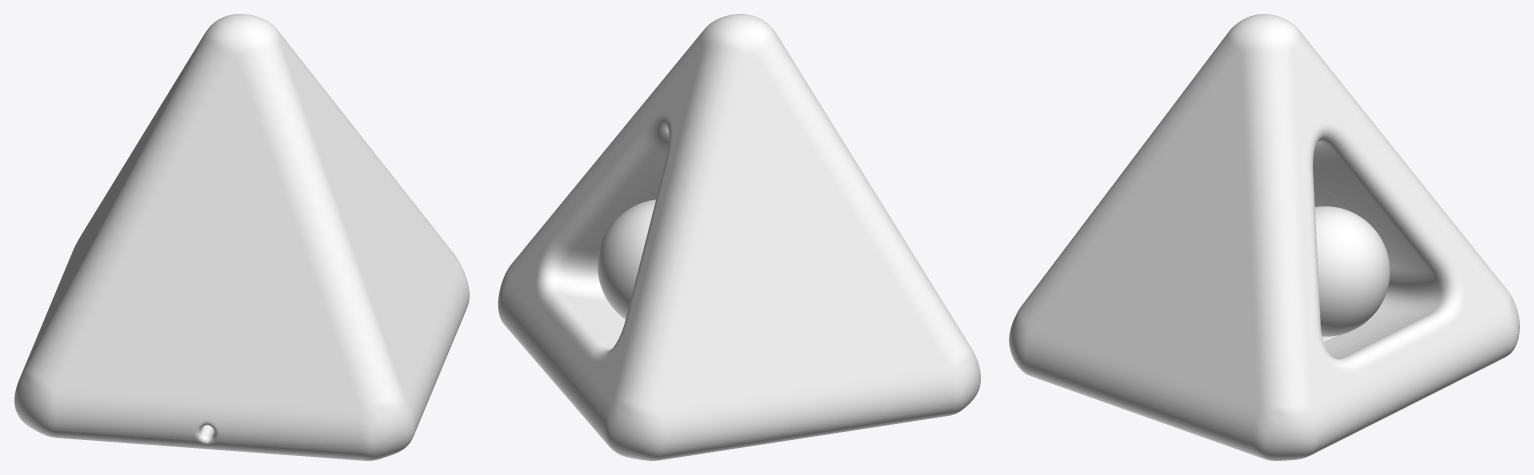
The picture shows the model from 3 angles, left to right: view 1: azimuth 30°, elevation 25°; view 2: azimuth 150°, elevation 25°; view 3: azimuth 270°, elevation 25°; orthographic projection. The views are drawn at different scales.
Visible parts, largest first — view 1: Gravity; view 2: Gravity; view 3: Gravity.
Part boxes in pixels (<box>): Gravity: <box>14,14,469,460</box>; Gravity: <box>498,14,980,460</box>; Gravity: <box>1009,14,1519,460</box>.
Bounding box in the file's own units: 235 × 175 × 235.
1 material, 1 textured.
